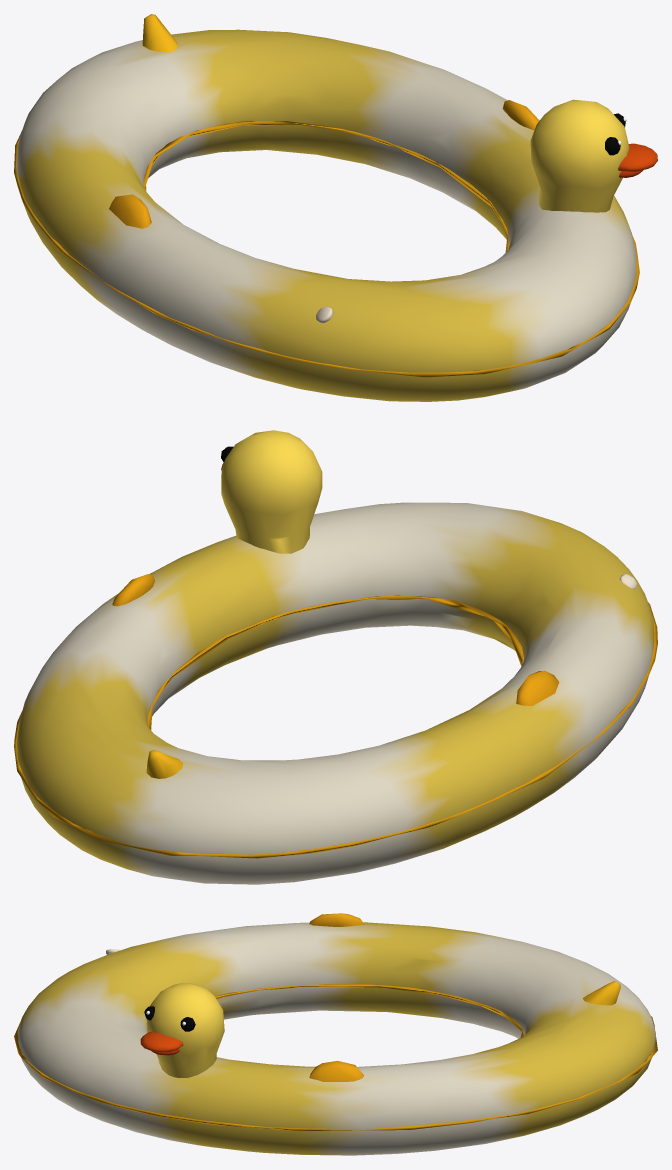
The model's file is phaovit.glb.
3 renders of one model, top to bottom at view 1: azimuth 30°, elevation 25°; view 2: azimuth 150°, elevation 25°; view 3: azimuth 270°, elevation 25°, orthographic. The views are drawn at different scales.
Parts seen in each view (by area): view 1: Phao, Vit, Duong_Ep, Canh_Vit, Duoi_Vit, Mo_Tren; view 2: Phao, Vit, Duong_Ep, Canh_Vit, Duoi_Vit; view 3: Phao, Vit, Duong_Ep, Canh_Vit, Mo_Tren, Duoi_Vit.
Boxes of the visible parts, box(x1,y1,x2,y2) form: Phao: box(16, 29, 636, 401); Vit: box(530, 99, 629, 212); Duong_Ep: box(14, 121, 639, 377); Canh_Vit: box(109, 100, 538, 228); Duoi_Vit: box(142, 14, 178, 52); Mo_Tren: box(618, 143, 657, 171); Phao: box(16, 502, 654, 884); Vit: box(221, 430, 322, 553); Duong_Ep: box(14, 595, 657, 858); Canh_Vit: box(112, 574, 559, 705); Duoi_Vit: box(146, 750, 182, 778); Phao: box(18, 922, 655, 1155); Vit: box(146, 982, 224, 1077); Duong_Ep: box(14, 984, 657, 1131); Canh_Vit: box(309, 913, 364, 1081); Mo_Tren: box(140, 1031, 183, 1052); Duoi_Vit: box(582, 981, 620, 1005).
Bounding box in the file's own units: 0.431 × 0.1674 × 0.6394.
